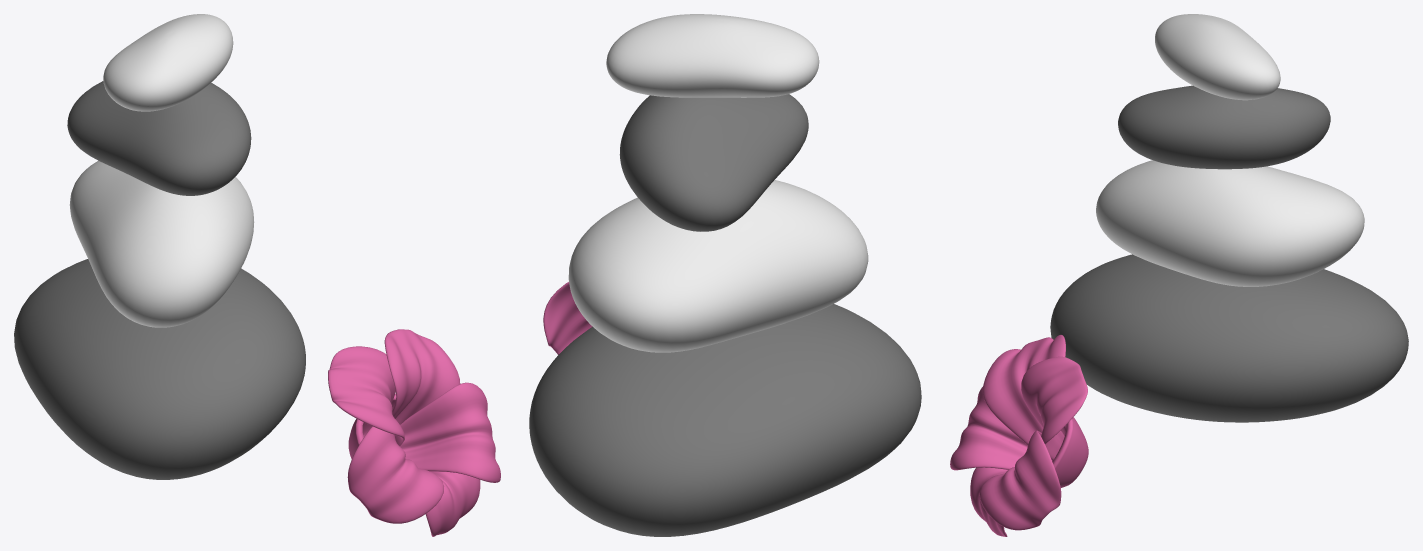
Rendered from spa-stones-3d-animated-icon-660332542241.glb.
The picture shows the model from 3 angles, left to right: view 1: azimuth 30°, elevation 25°; view 2: azimuth 150°, elevation 25°; view 3: azimuth 270°, elevation 25°; orthographic projection. The views are drawn at different scales.
Parts seen in each view (by area): view 1: Sphere.058, Cube.012, Sphere.059, Sphere.060, Sphere.061; view 2: Sphere.058, Sphere.059, Sphere.060, Sphere.061, Cube.012; view 3: Sphere.058, Sphere.059, Cube.012, Sphere.060, Sphere.061.
Boxes of the visible parts, bbox=[...] form: Sphere.058: bbox=[14, 259, 305, 479]; Cube.012: bbox=[328, 329, 500, 536]; Sphere.059: bbox=[69, 161, 254, 327]; Sphere.060: bbox=[67, 81, 251, 195]; Sphere.061: bbox=[103, 14, 233, 111]; Sphere.058: bbox=[529, 304, 921, 536]; Sphere.059: bbox=[568, 180, 868, 352]; Sphere.060: bbox=[619, 94, 808, 231]; Sphere.061: bbox=[606, 14, 819, 97]; Cube.012: bbox=[543, 282, 592, 354]; Sphere.058: bbox=[1050, 254, 1408, 422]; Sphere.059: bbox=[1096, 160, 1364, 286]; Cube.012: bbox=[950, 335, 1088, 536]; Sphere.060: bbox=[1118, 85, 1330, 169]; Sphere.061: bbox=[1155, 14, 1280, 100].
Size of the model in its own units: 3.85 by 4.63 by 4.43.
